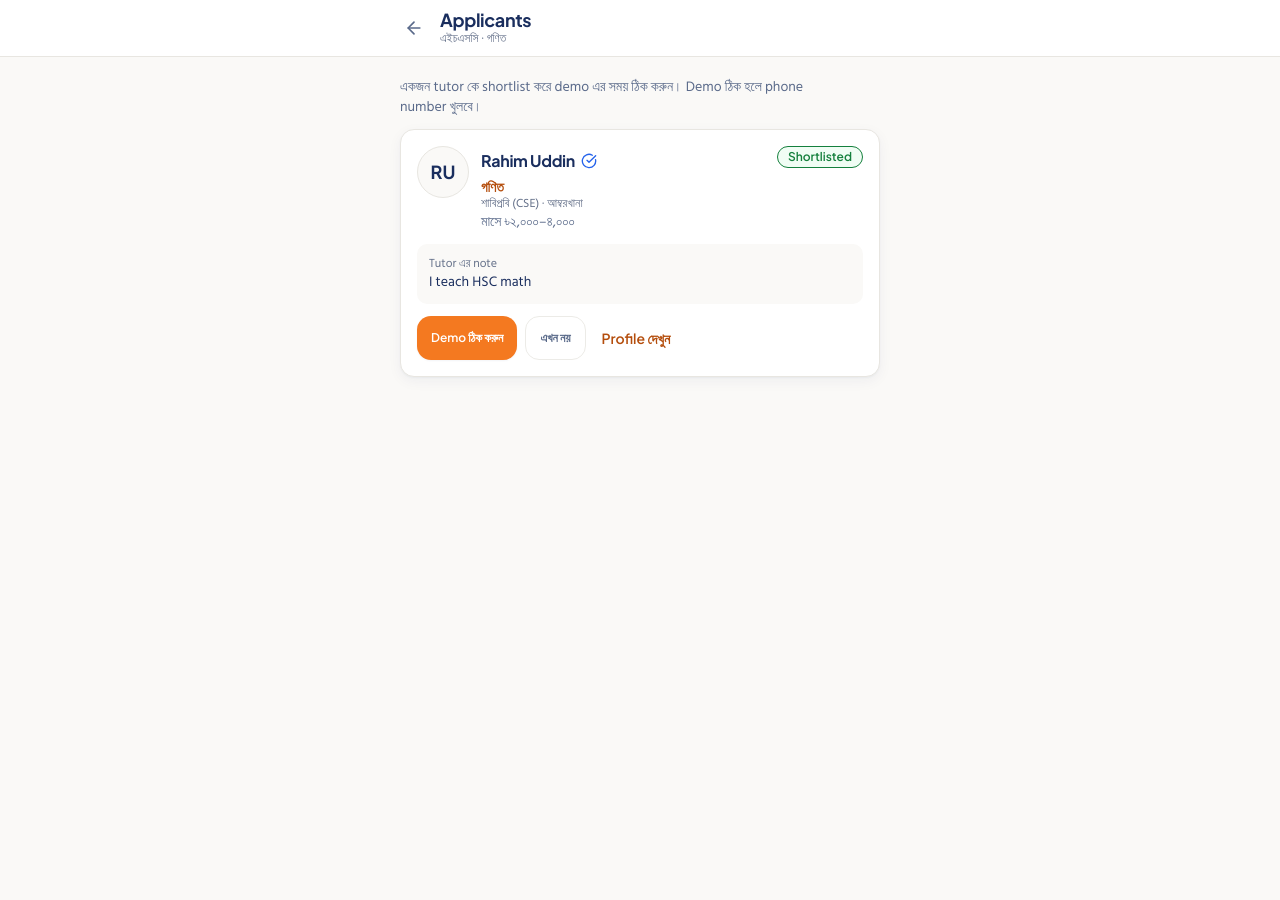
it: Applicants page › books a demo and then shows the tutor's number
The image size is (1280, 900).
Click the button "Demo ঠিক করুন" at (467, 338), box [417, 316, 517, 360]
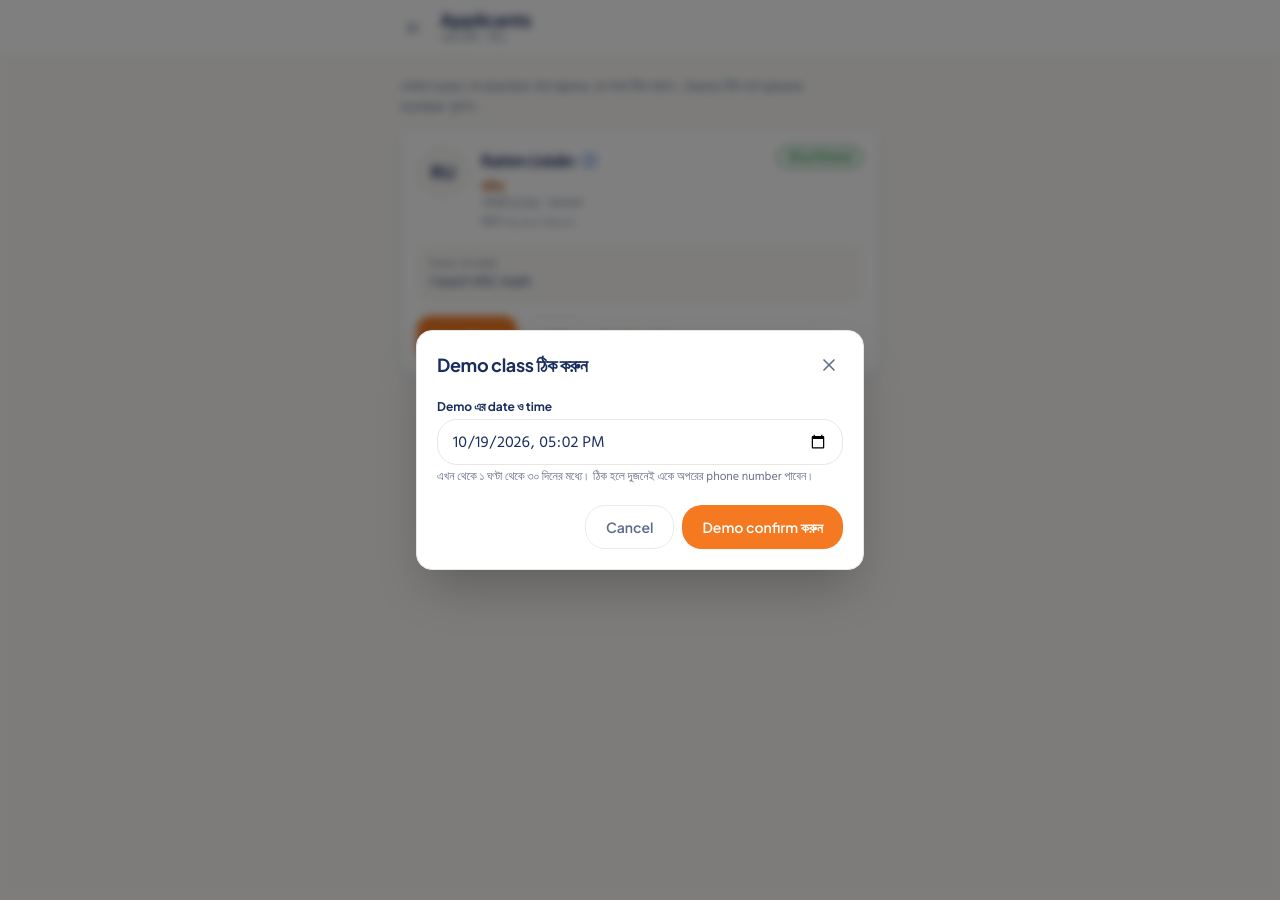
Click the button "Demo confirm করুন" at (763, 527), box [682, 505, 843, 549]
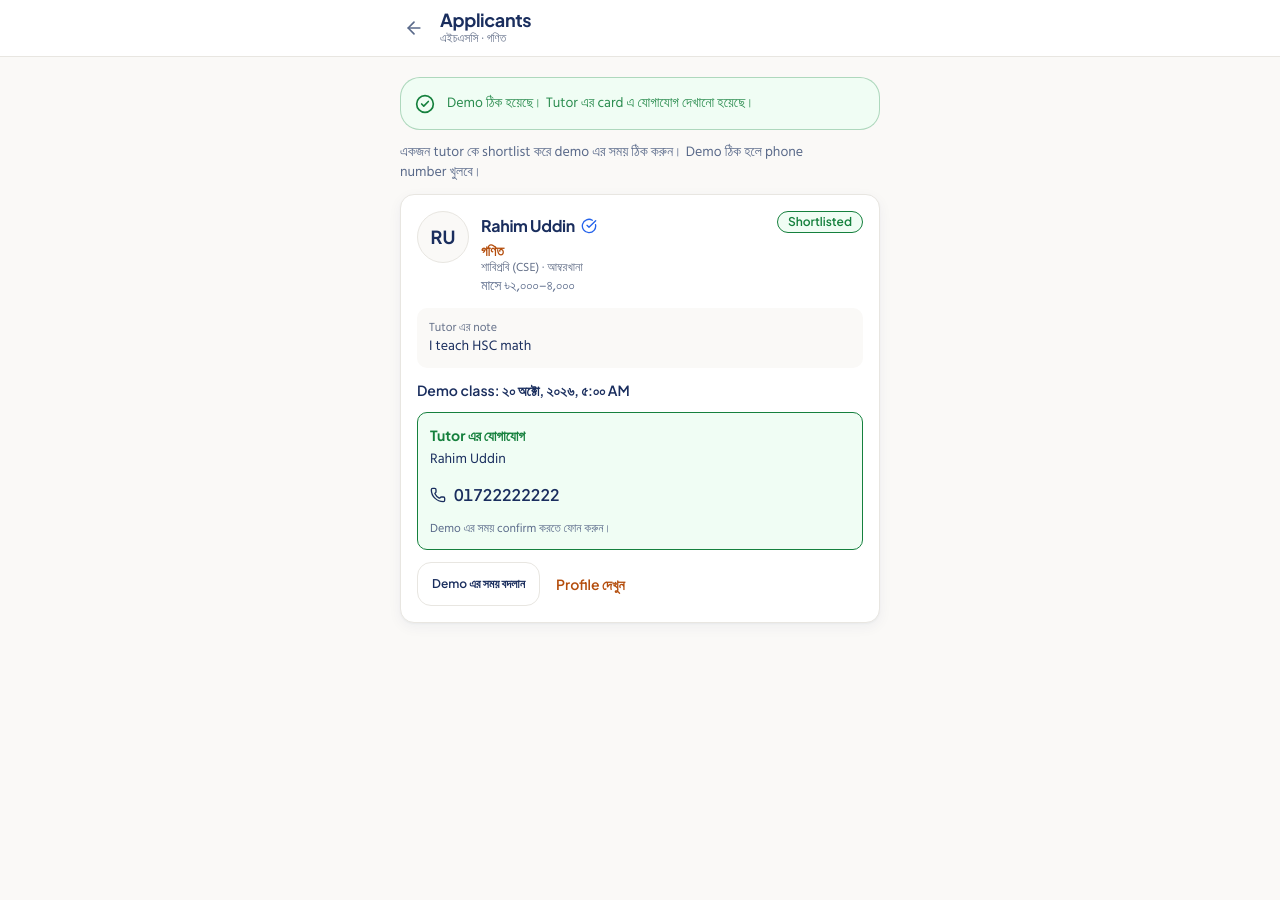
Expected: the text "Demo ঠিক হয়েছে। Tutor এর card এ যোগাযোগ দেখানো হয়েছে।" is shown, [447, 91, 755, 114]
Expected: the button "Demo এর সময় বদলান" is shown, [417, 562, 540, 606]
